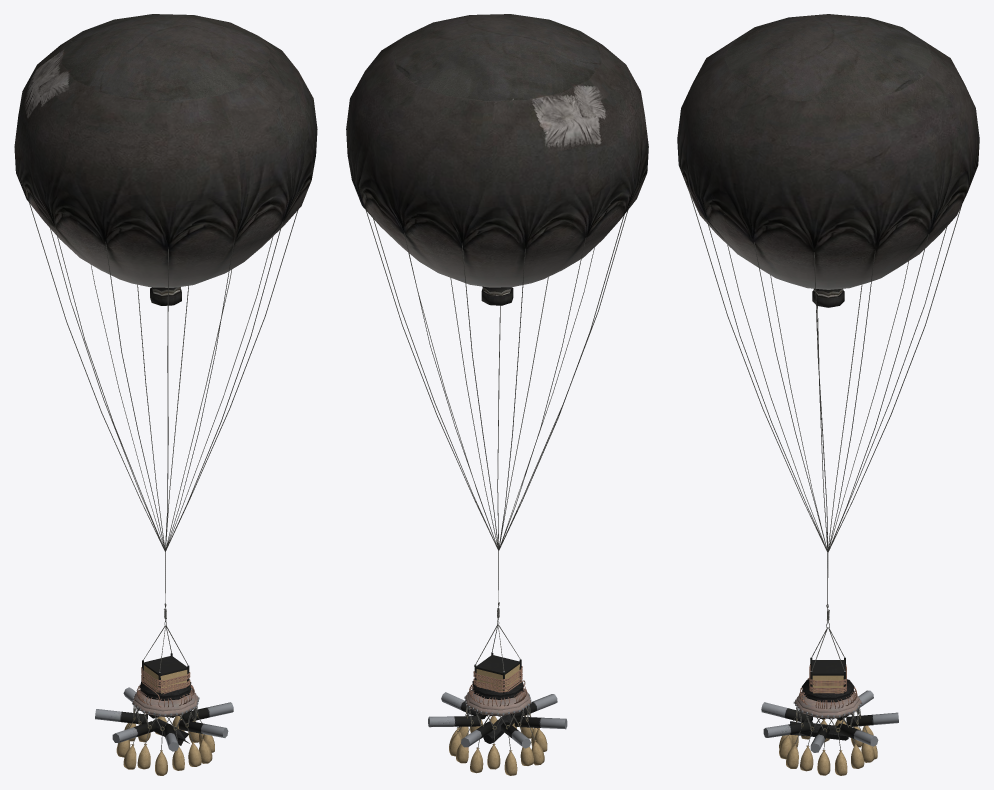
Rendered from fugo.glb.
3 views of the same model, side by side, from view 1: azimuth 30°, elevation 25°; view 2: azimuth 150°, elevation 25°; view 3: azimuth 270°, elevation 25° (orthographic).
Visible parts, largest first — view 1: Balloon, Base, Ropes, Wires; view 2: Balloon, Base, Ropes, Wires; view 3: Balloon, Base, Ropes, Wires.
Part boxes in pixels (x1,y1,x2,y2): Balloon: [14, 14, 317, 305]; Base: [95, 653, 233, 775]; Ropes: [29, 203, 298, 750]; Wires: [136, 667, 194, 707]; Balloon: [346, 14, 648, 305]; Base: [428, 652, 567, 775]; Ropes: [365, 209, 628, 750]; Wires: [469, 666, 527, 706]; Balloon: [677, 14, 979, 307]; Base: [761, 657, 898, 775]; Ropes: [689, 193, 961, 750]; Wires: [799, 664, 857, 708].
Bounding box in the file's own units: 11.68 × 30.56 × 11.5.
Materials: 4 (4 with a texture image).
